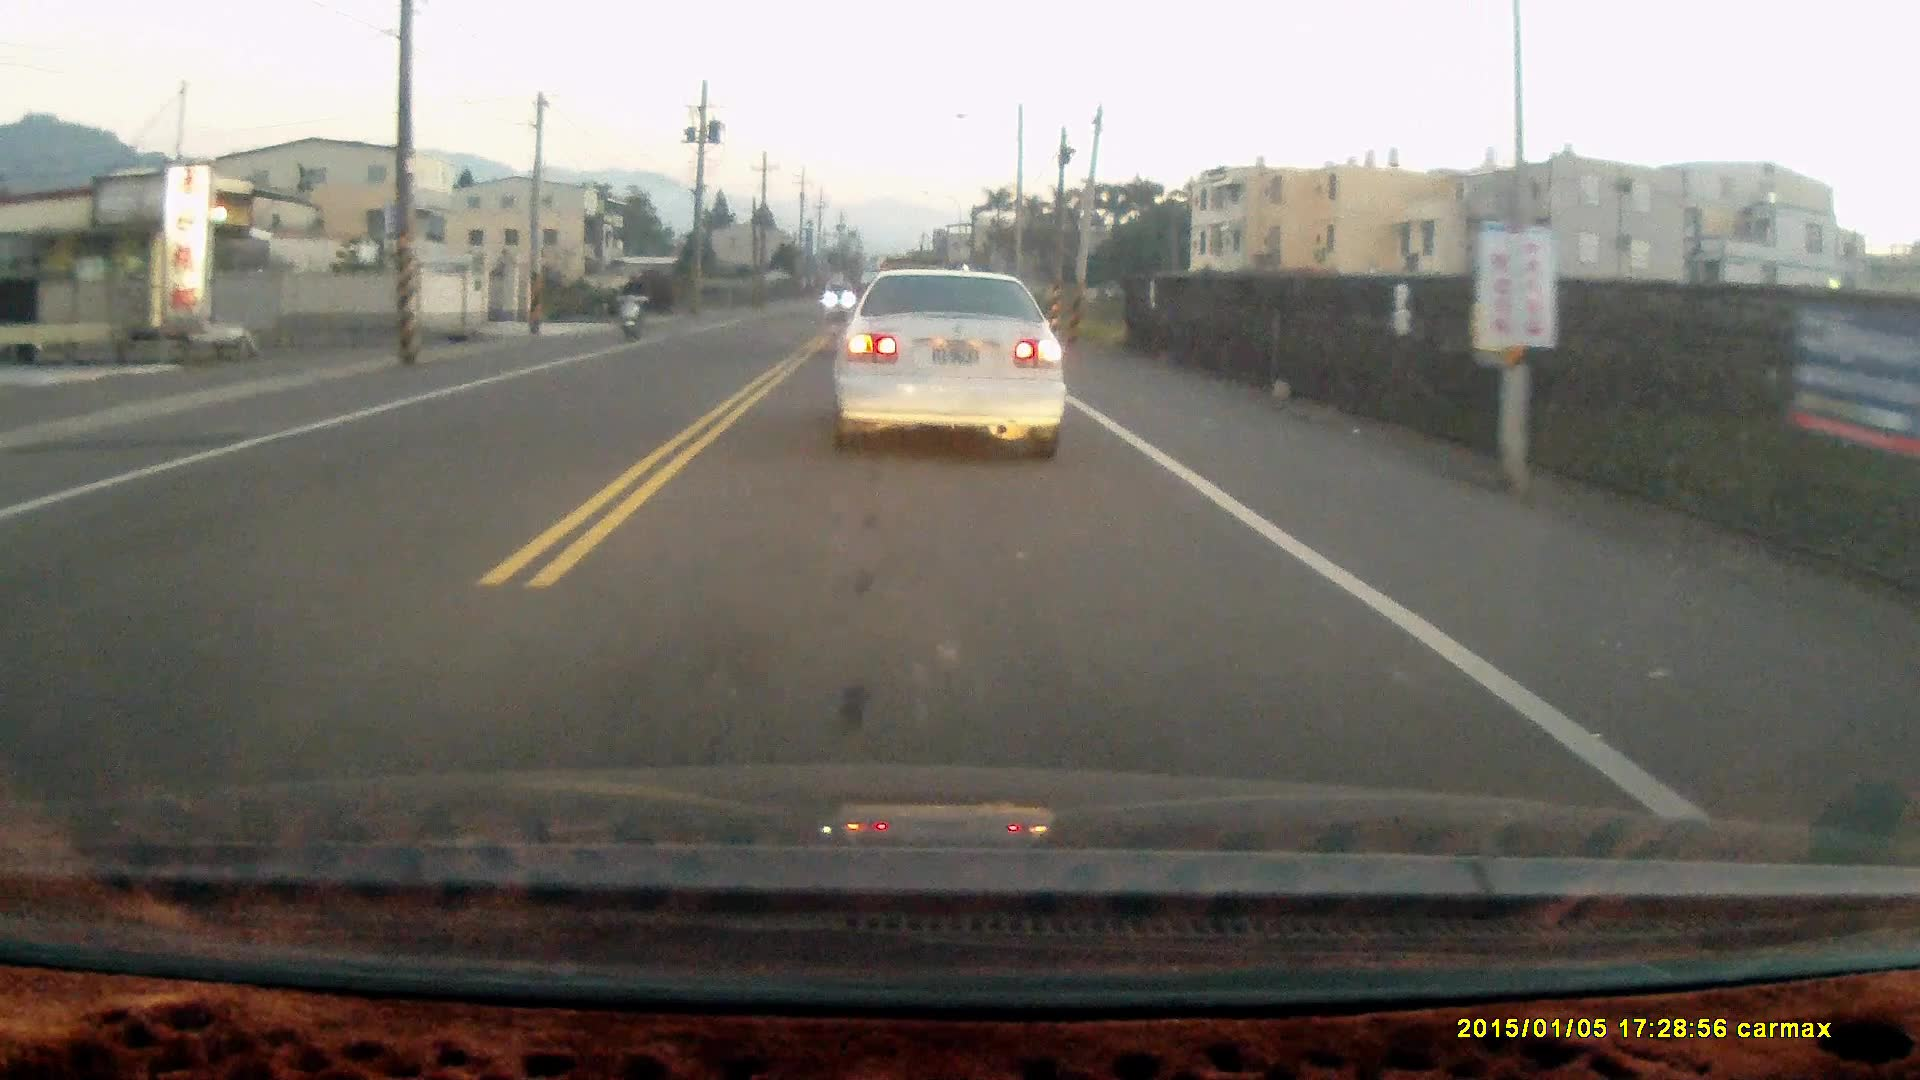rider: (613, 270, 647, 344)
vehicle: (832, 266, 1077, 468)
